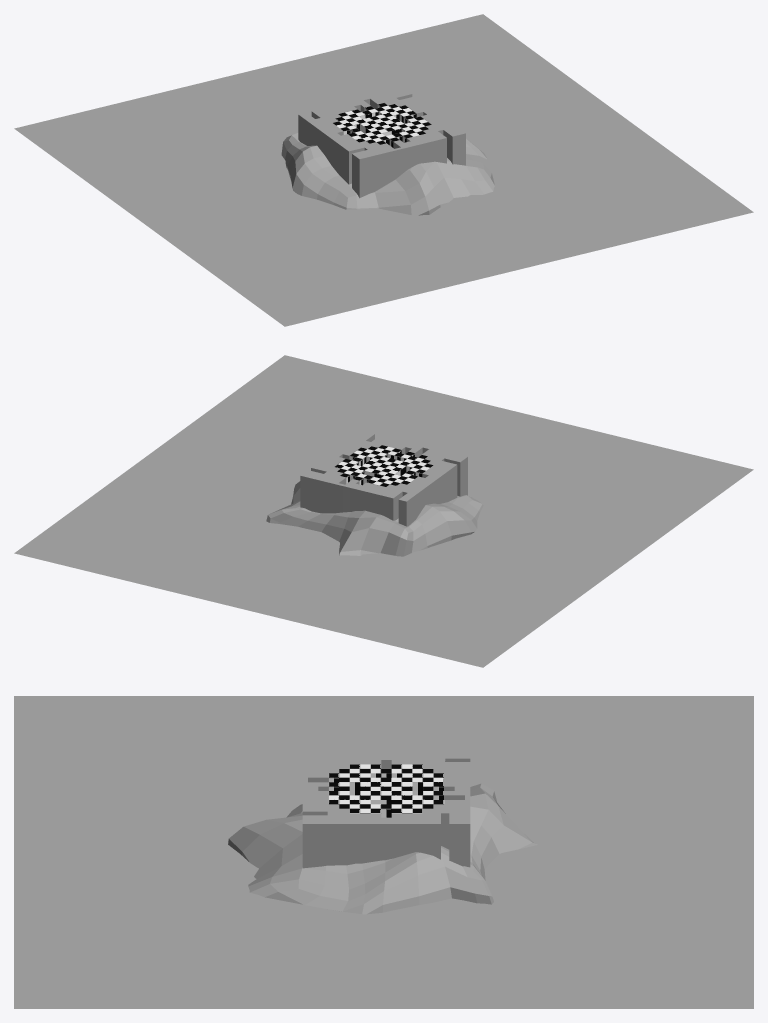
Rendered from Dressed_N3_3.fbx.
3 views of the same model, one above another, from view 1: azimuth 30°, elevation 25°; view 2: azimuth 150°, elevation 25°; view 3: azimuth 270°, elevation 25° (orthographic). The views are drawn at different scales.
Parts seen in each view (by area): view 1: Fondo, Piso, Colinas, Ajedrez1; view 2: Fondo, Piso, Colinas, Ajedrez1; view 3: Fondo, Colinas, Piso, Ajedrez1.
Part boxes in pixels (left/top/right/bottom): Fondo: left=14, top=14, right=753, bottom=326; Piso: left=298, top=88, right=465, bottom=198; Colinas: left=281, top=133, right=494, bottom=215; Ajedrez1: left=333, top=102, right=431, bottom=147; Fondo: left=14, top=355, right=753, bottom=667; Piso: left=300, top=431, right=467, bottom=526; Colinas: left=266, top=481, right=483, bottom=556; Ajedrez1: left=334, top=445, right=433, bottom=486; Fondo: left=14, top=696, right=753, bottom=1008; Colinas: left=228, top=783, right=537, bottom=914; Piso: left=302, top=753, right=470, bottom=868; Ajedrez1: left=328, top=764, right=444, bottom=817.
Bounding box in the file's own units: 177 × 25.64 × 177.
